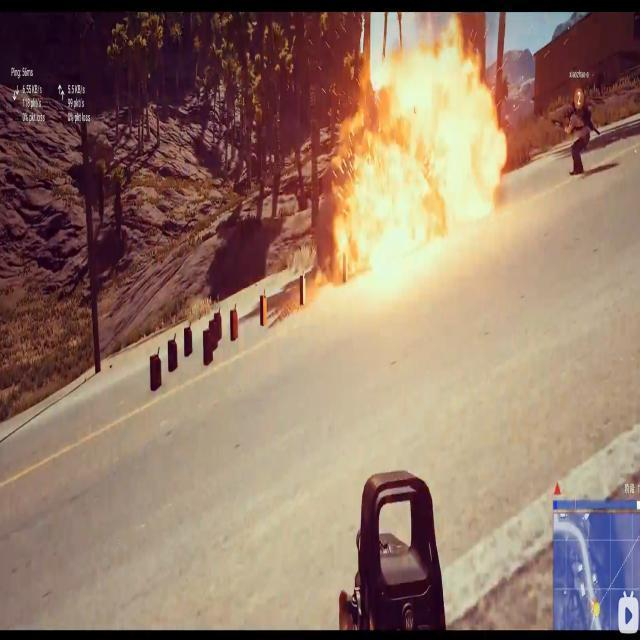fire: (324, 0, 511, 292)
